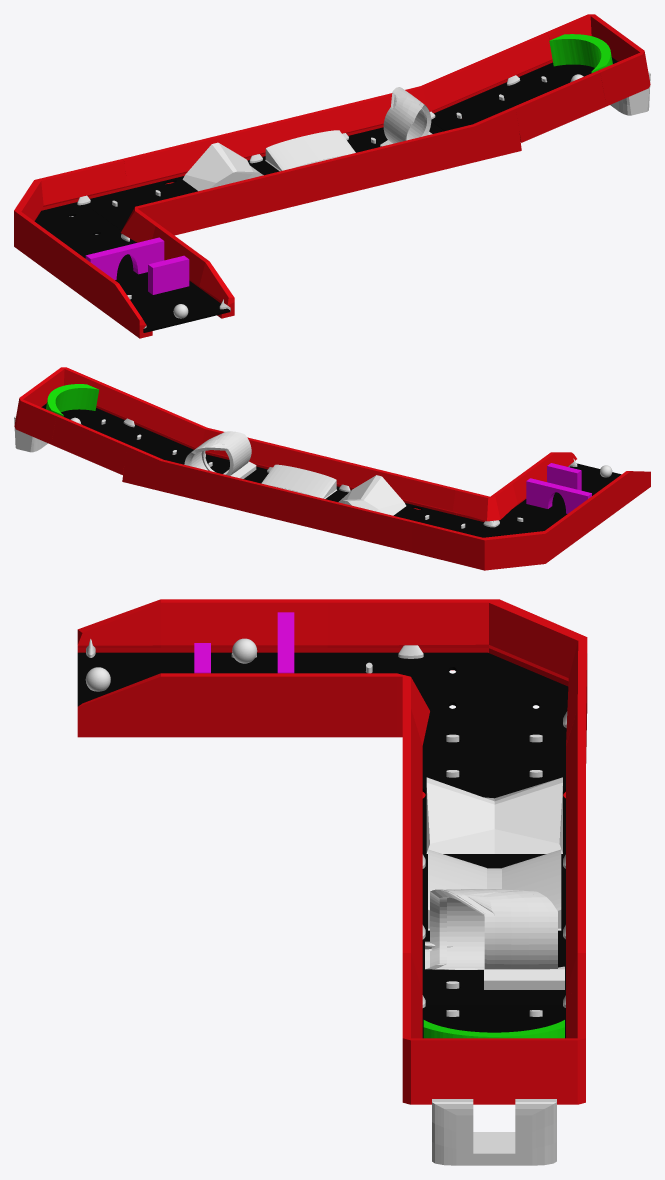
File: mikrogolfrata-lisaaesteita-LEVEL.fbx
3 views of the same model, one above another, from view 1: azimuth 30°, elevation 25°; view 2: azimuth 150°, elevation 25°; view 3: azimuth 270°, elevation 25° (orthographic). The views are drawn at different scales.
Parts seen in each view (by area): view 1: Cube.261, Cube.258, Cube.263, Cube.268, Cube.271, Cube.069, Cube.272, Cube.266, Plane.119, Cube.259, Plane.126, Cube.080 (+17 smaller); view 2: Cube.261, Cube.269, Cube.263, Cube.259, Cube.080, Cube.273, Cube.270, Cube.268, Cube.266, BezierCircle.005, Cube.069, Cube.260 (+17 smaller); view 3: Cube.261, Cube.267, Cube.263, BezierCircle.005, Cube.266, Plane.126, Plane.081, Cube.091, Cube.256, Cube.260, Cylinder, Plane.119 (+17 smaller).
Part boxes in pixels (x1,y1,x2,y2): Cube.261: [14, 159, 127, 283]; Cube.258: [432, 107, 521, 171]; Cube.263: [546, 14, 650, 106]; Cube.268: [513, 71, 606, 142]; Cube.271: [346, 134, 434, 192]; Cube.069: [174, 176, 262, 234]; Cube.272: [260, 155, 348, 213]; Cube.266: [65, 247, 152, 338]; Plane.119: [122, 280, 230, 332]; Cube.259: [461, 32, 552, 98]; Plane.126: [34, 202, 122, 250]; Cube.080: [122, 138, 210, 190]; Cube.261: [412, 501, 588, 570]; Cube.269: [122, 445, 196, 499]; Cube.263: [14, 367, 101, 444]; Cube.259: [51, 414, 129, 474]; Cube.080: [339, 503, 413, 552]; Cube.273: [267, 485, 341, 534]; Cube.270: [195, 468, 269, 517]; Cube.268: [96, 382, 172, 438]; Cube.266: [585, 471, 650, 532]; BezierCircle.005: [184, 431, 256, 478]; Cube.069: [383, 471, 457, 515]; Cube.260: [453, 483, 517, 521]; Cube.261: [327, 599, 587, 763]; Cube.267: [77, 673, 327, 737]; Cube.263: [402, 1016, 585, 1104]; BezierCircle.005: [425, 889, 564, 989]; Cube.266: [77, 599, 327, 652]; Plane.126: [411, 652, 568, 722]; Plane.081: [422, 723, 566, 794]; Cube.091: [426, 777, 562, 853]; Cube.256: [432, 1099, 556, 1165]; Cube.260: [327, 673, 429, 745]; Cylinder: [428, 849, 561, 930]; Plane.119: [77, 652, 244, 706].
Bounding box in the file's own units: 71.82 × 7.54 × 30.59.
